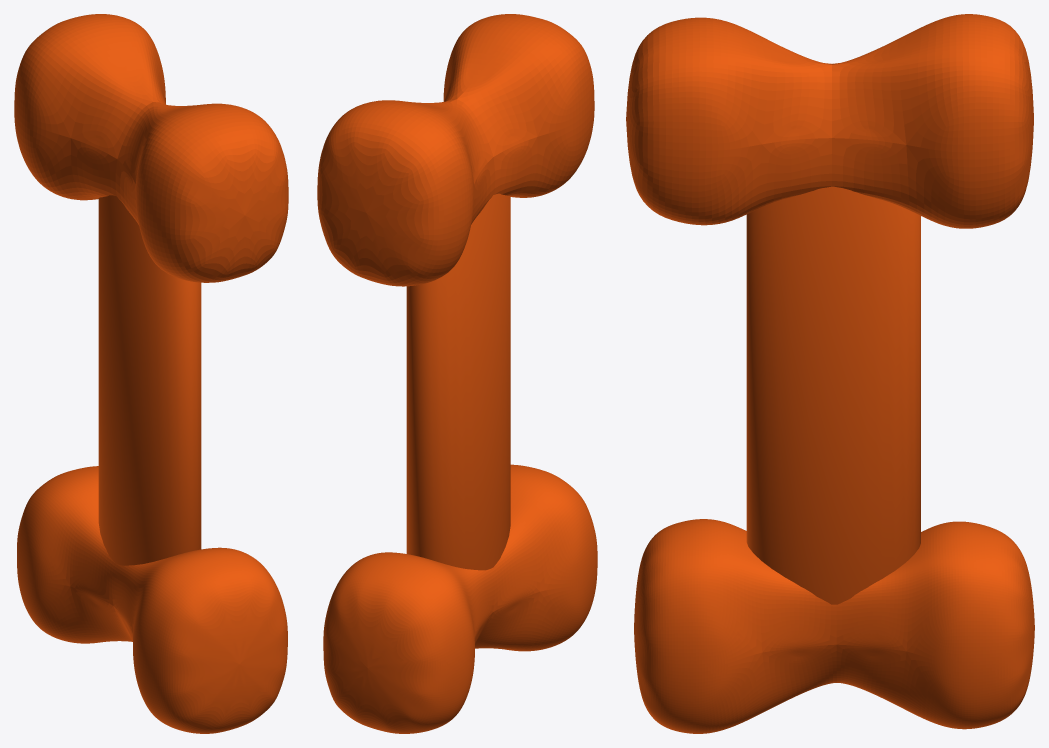
Rendered from dogTreatV5.fbx.
3 views of the same model, side by side, from view 1: azimuth 30°, elevation 25°; view 2: azimuth 150°, elevation 25°; view 3: azimuth 270°, elevation 25° (orthographic). The views are drawn at different scales.
Parts seen in each view (by area): view 1: Cube.001, Cube.002, Cylinder; view 2: Cube.001, Cube.002, Cylinder; view 3: Cube.001, Cylinder, Cube.002.
Boxes of the visible parts, x1=… form: Cube.001: x1=14, y1=14, x2=288, y2=282; Cube.002: x1=17, y1=466, x2=287, y2=733; Cylinder: x1=98, y1=195, x2=201, y2=565; Cube.001: x1=317, y1=14, x2=594, y2=286; Cube.002: x1=323, y1=464, x2=597, y2=733; Cylinder: x1=406, y1=193, x2=510, y2=570; Cube.001: x1=626, y1=14, x2=1033, y2=228; Cylinder: x1=746, y1=186, x2=920, y2=604; Cube.002: x1=634, y1=519, x2=1034, y2=733.
Size of the model in its own units: 15.69 by 67.88 by 36.12.
